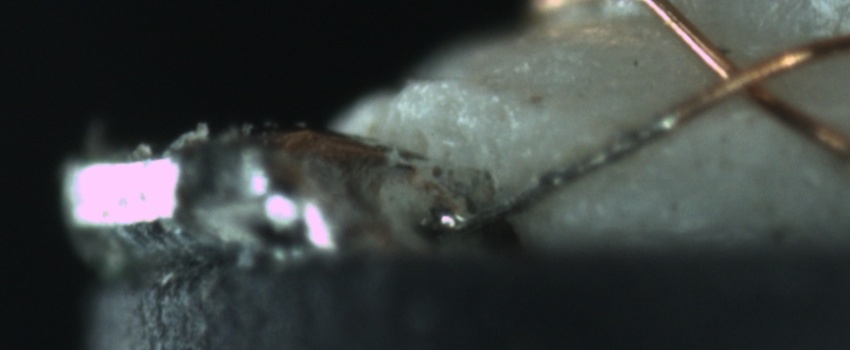CL: (693, 48, 788, 115)
TS: (458, 111, 675, 228)
TTCW: (426, 86, 715, 235)
